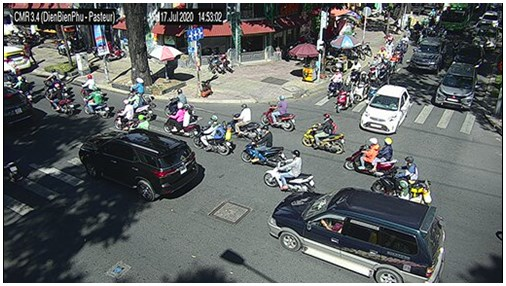xe_buyt: (441, 4, 476, 31)
xe_dap: (127, 77, 151, 99)
xe_hoi: (269, 187, 446, 283), (79, 128, 199, 202), (360, 84, 411, 133), (434, 60, 478, 109), (3, 87, 35, 131), (409, 36, 446, 71), (4, 45, 32, 74), (475, 30, 496, 50), (479, 12, 499, 28)
xe_may: (372, 155, 430, 195), (262, 149, 314, 193), (343, 137, 397, 174), (241, 125, 287, 167), (301, 113, 345, 155), (193, 114, 233, 155), (259, 95, 296, 132), (164, 102, 199, 137), (227, 104, 261, 140), (389, 180, 431, 205), (83, 87, 109, 119), (127, 92, 153, 121), (50, 84, 74, 115), (335, 75, 353, 115), (164, 89, 189, 116), (115, 99, 138, 128), (14, 75, 33, 102), (354, 71, 369, 105), (328, 68, 343, 99), (79, 75, 97, 99), (45, 70, 62, 94), (368, 56, 380, 86), (349, 59, 360, 85), (381, 55, 390, 85), (394, 43, 402, 66), (390, 54, 398, 75), (401, 34, 409, 53), (385, 40, 393, 56)
